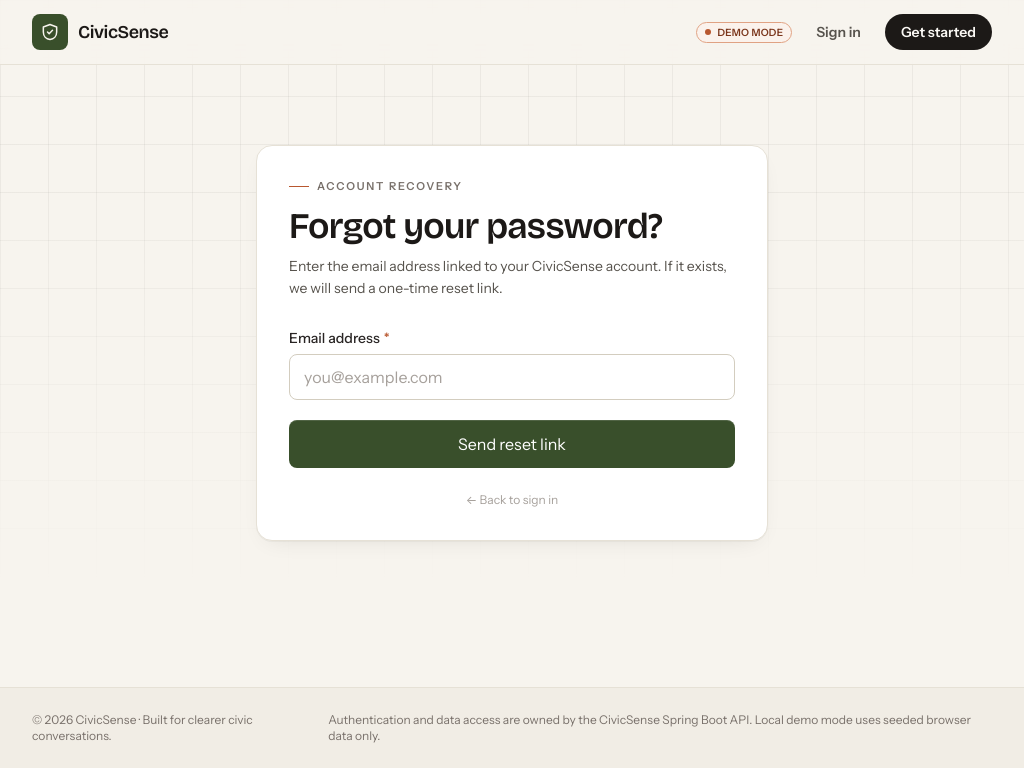
Test: Phase 10 password recovery › requests a reset link and shows the generic success message
Type " citizen@example.com " into the field labelled "Email address *". click: (512,377)
box: [289,354,735,400]
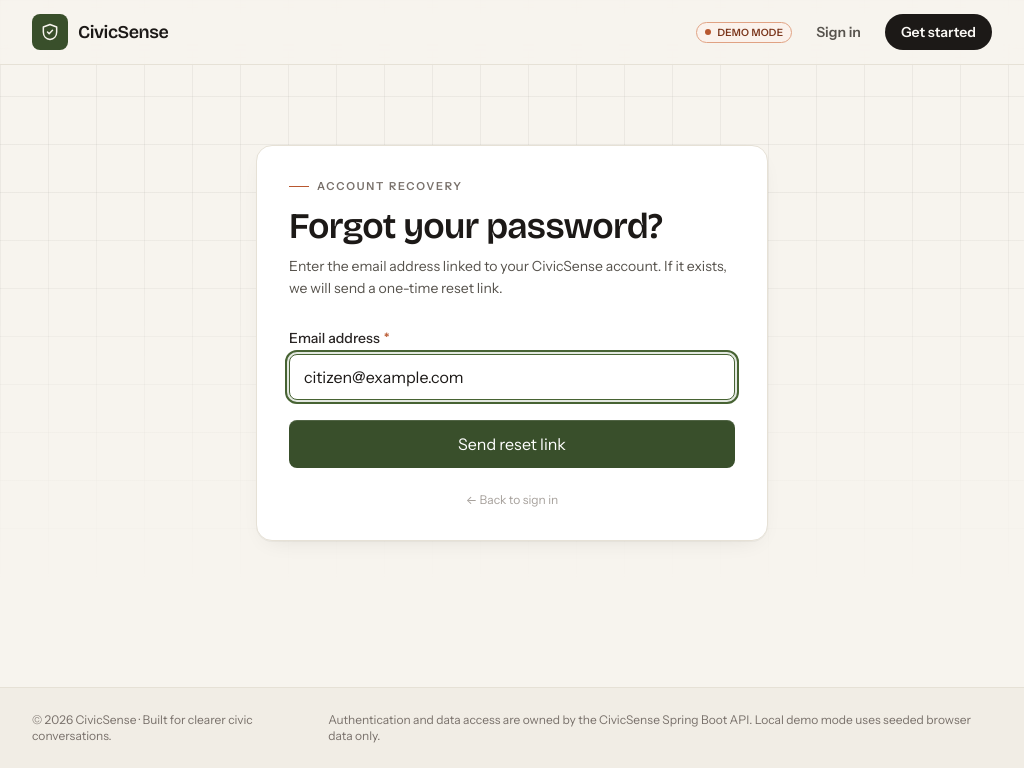
Click the button "Send reset link". click: (512,444)
box: [289,420,735,468]
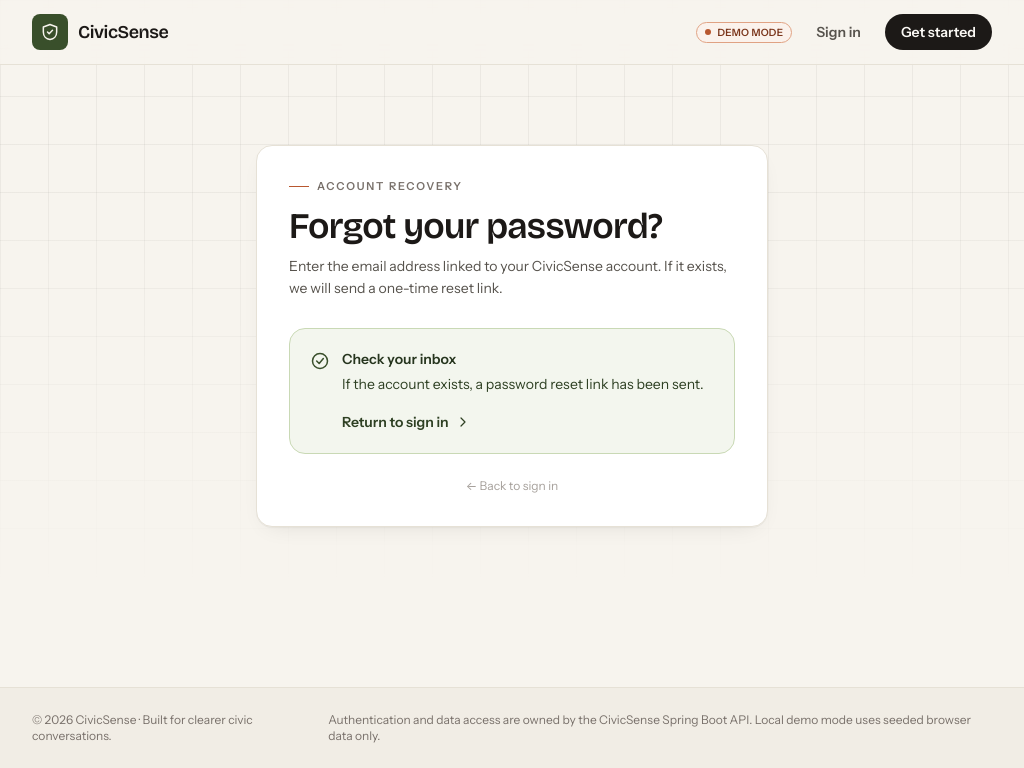
Expected: the text "If the account exists, a password reset link has been sent." is shown, [342,373,704,396]
